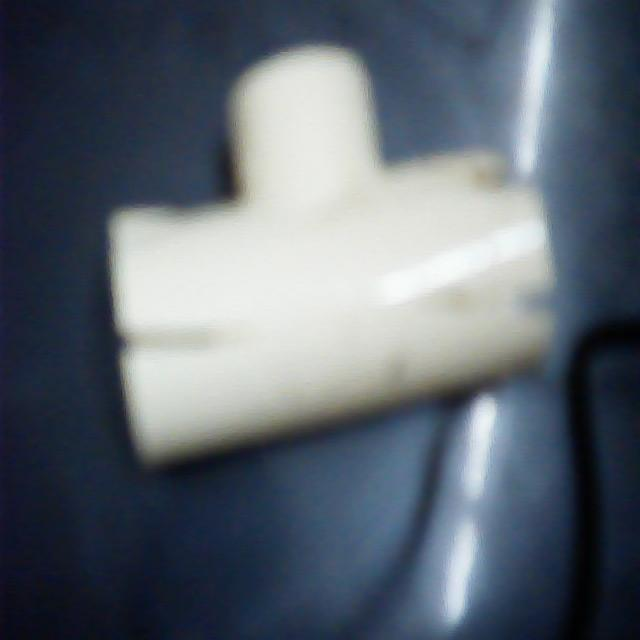Defective: (122, 315, 230, 369), (520, 280, 555, 326)
T Joint: (107, 44, 554, 475)
